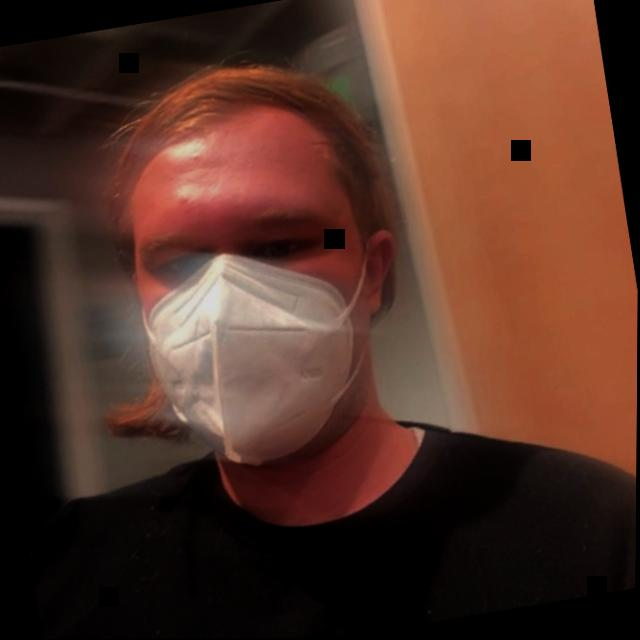Mask: (49, 2, 495, 594)
